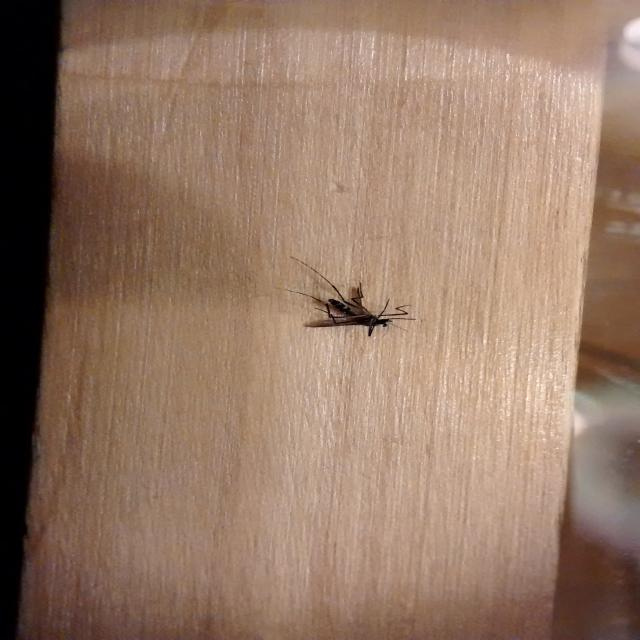albopictus: (261, 250, 419, 342)
